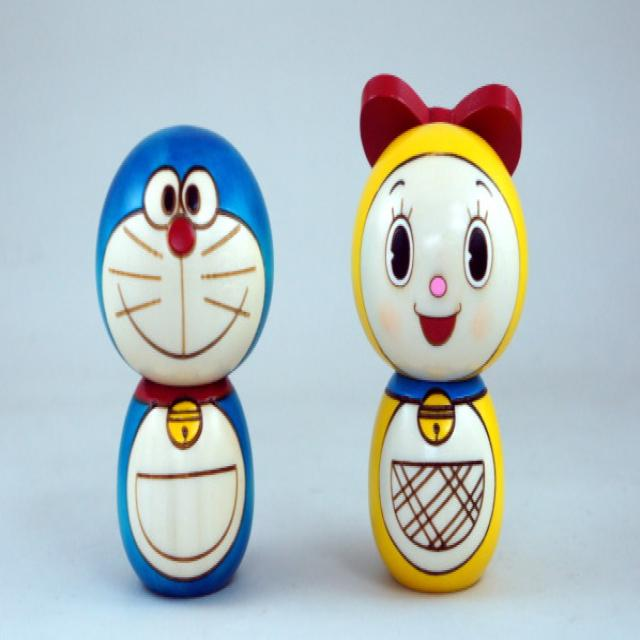nobita: (83, 113, 305, 547)
